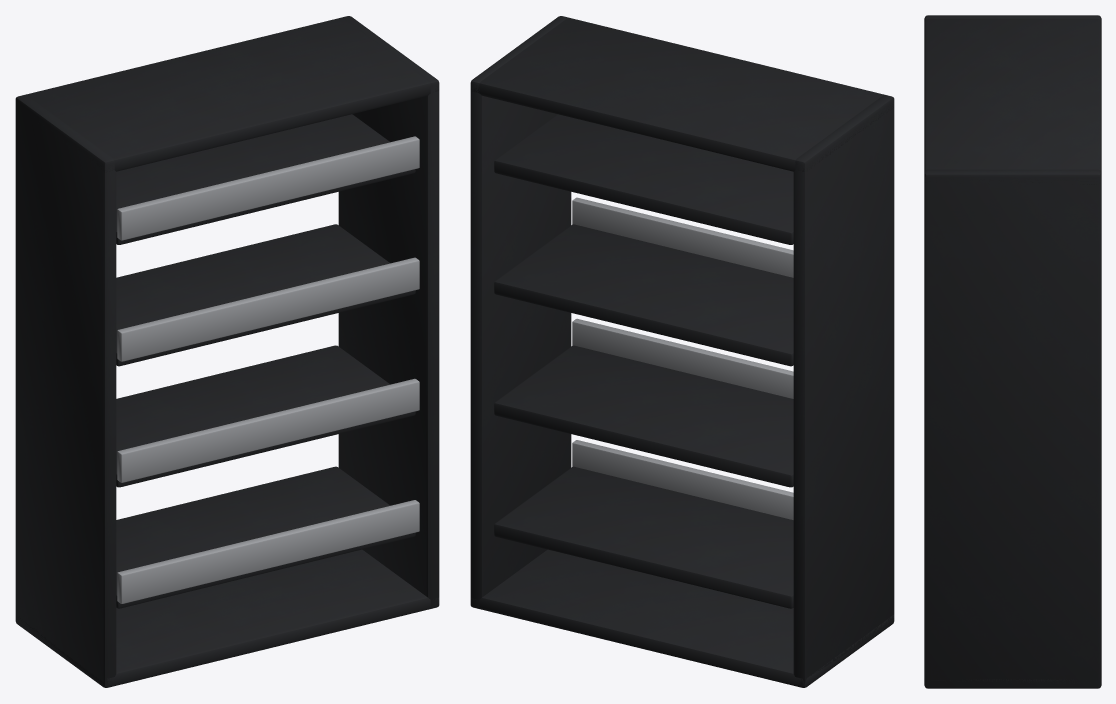
File: pf_display_ball_display_t1.glb
The picture shows the model from 3 angles, left to right: view 1: azimuth 30°, elevation 25°; view 2: azimuth 150°, elevation 25°; view 3: azimuth 270°, elevation 25°; orthographic projection. The views are drawn at different scales.
Parts seen in each view (by area): view 1: Case_Left, Case_Top, Case_Right, Case_Base, Shelf_01, Shelf_03, Shelf_02, Shelf_04, Shelf_Lip_03, Shelf_Lip_04, Shelf_Lip_02, Shelf_Lip_01; view 2: Case_Left, Case_Right, Case_Top, Shelf_01, Shelf_02, Shelf_03, Case_Base, Shelf_04, Shelf_Lip_03, Shelf_Lip_01, Shelf_Lip_02; view 3: Case_Right, Case_Top, Case_Left.
Part boxes in pixels (box(x1,y1,x2,y2)): Case_Left: box(15, 94, 116, 687); Case_Top: box(26, 17, 439, 172); Case_Right: box(338, 16, 439, 608); Case_Base: box(18, 549, 439, 687); Shelf_01: box(116, 466, 415, 608); Shelf_03: box(116, 224, 415, 366); Shelf_02: box(116, 345, 415, 487); Shelf_04: box(116, 114, 415, 244); Shelf_Lip_03: box(117, 257, 419, 361); Shelf_Lip_04: box(117, 136, 419, 240); Shelf_Lip_02: box(117, 378, 419, 482); Shelf_Lip_01: box(117, 500, 419, 603); Case_Left: box(793, 94, 894, 687); Case_Right: box(470, 16, 571, 608); Case_Top: box(471, 17, 893, 171); Shelf_01: box(494, 466, 793, 608); Shelf_02: box(494, 345, 793, 487); Shelf_03: box(494, 224, 793, 366); Case_Base: box(470, 549, 894, 687); Shelf_04: box(494, 114, 793, 244); Shelf_Lip_03: box(572, 197, 793, 277); Shelf_Lip_01: box(572, 440, 793, 519); Shelf_Lip_02: box(572, 318, 793, 398); Case_Right: box(924, 169, 1101, 688); Case_Top: box(924, 18, 1101, 184); Case_Left: box(924, 15, 1101, 21).
Size of the model in its own units: 0.9 by 1.35 by 0.42.
3 materials, 1 textured.
